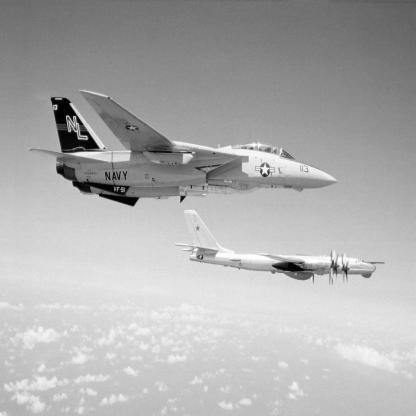F14: (28, 90, 343, 208)
Tu95: (174, 209, 387, 287)
